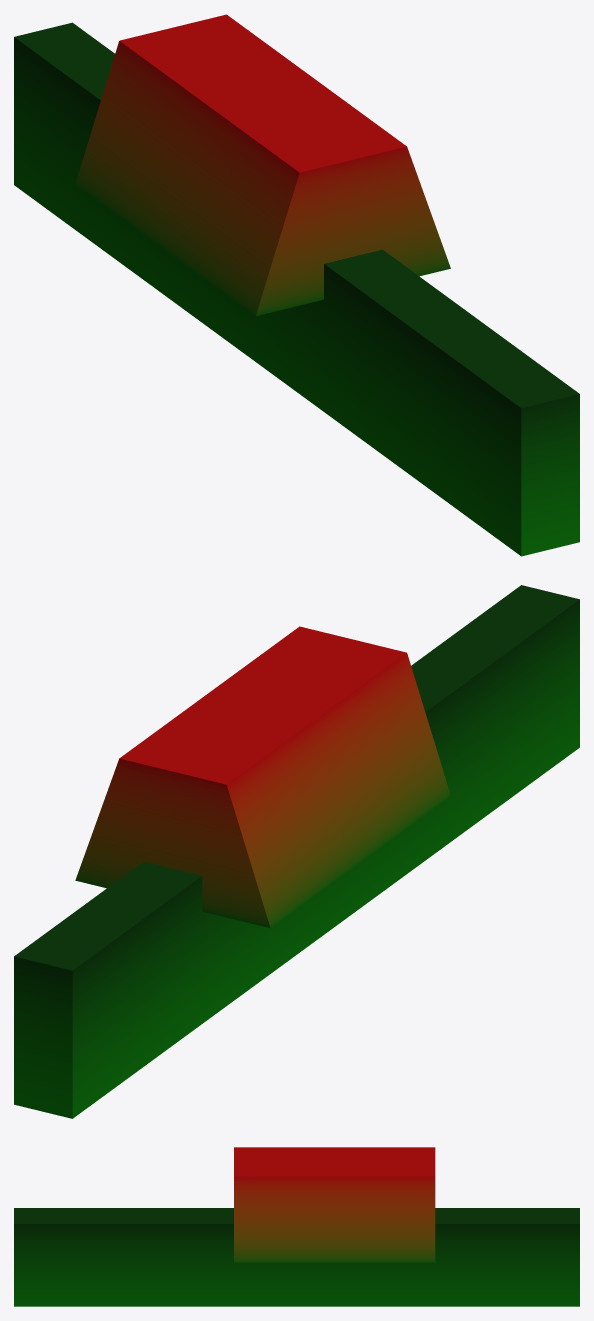
The model's file is boat.glb.
The picture shows the model from 3 angles, top to bottom: view 1: azimuth 30°, elevation 25°; view 2: azimuth 150°, elevation 25°; view 3: azimuth 270°, elevation 25°; orthographic projection. The views are drawn at different scales.
Parts seen in each view (by area): view 1: boat; view 2: boat; view 3: boat.
Boxes of the visible parts, x1,y1,x2,y2 form: boat: (14,14,579,556); boat: (14,585,579,1118); boat: (14,1147,579,1306).
Size of the model in its own units: 2 by 2.4 by 9.
